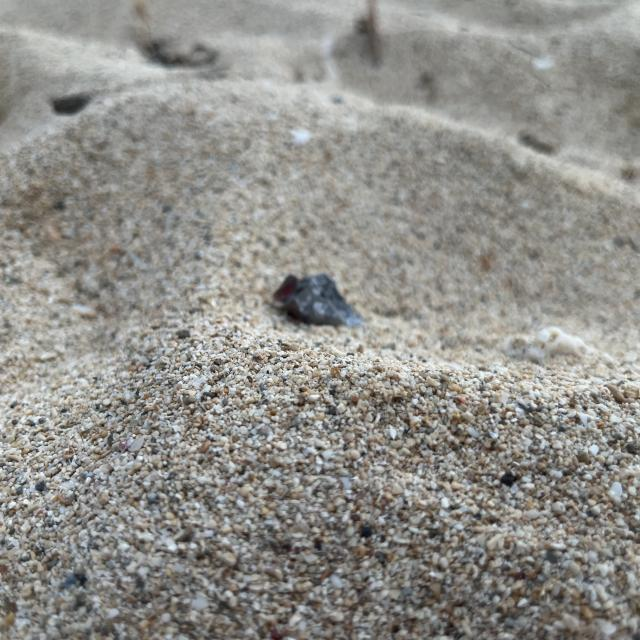trash: (259, 255, 380, 342)
